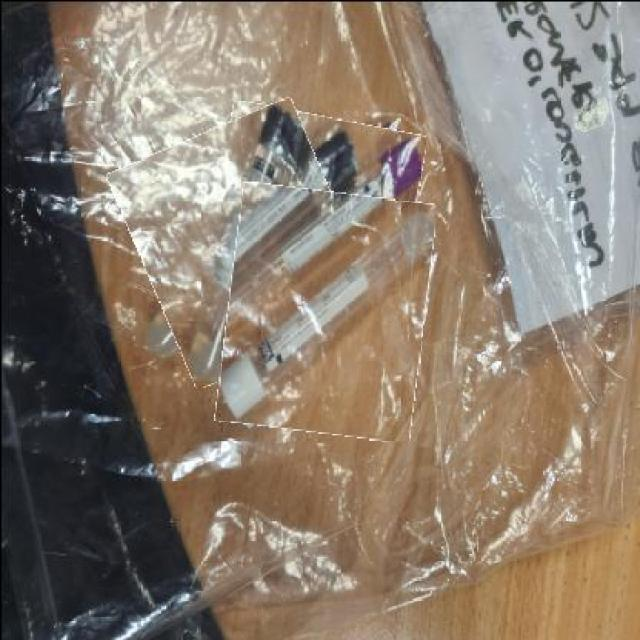Experimental-tube: (124, 110, 361, 373), (199, 108, 416, 354), (220, 186, 428, 437)
